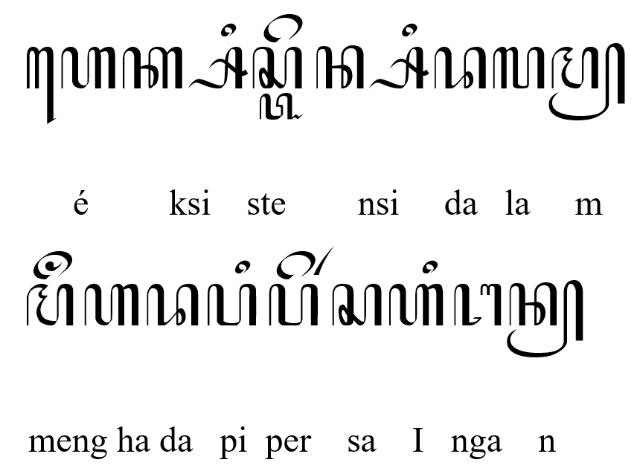-m: (549, 42, 627, 122)
-n: (506, 280, 584, 358)
_r1: (313, 246, 335, 276)
_s: (186, 45, 248, 89), (368, 46, 430, 90)
_t: (258, 93, 304, 121)
d: (146, 282, 198, 328), (434, 46, 486, 90)
e: (261, 12, 303, 44), (276, 251, 316, 281)
e1: (26, 46, 56, 124)
eng: (33, 251, 73, 282)
h: (60, 46, 116, 90), (84, 283, 140, 327), (388, 284, 444, 326)
i: (220, 22, 236, 38), (401, 22, 417, 38), (422, 260, 438, 276), (234, 260, 250, 274)
k: (122, 46, 184, 90)
l: (492, 46, 546, 90)
m: (26, 283, 74, 327)
n: (316, 44, 364, 90)
nga: (454, 284, 502, 326)
p: (207, 282, 257, 328), (268, 284, 318, 328)
s: (252, 46, 304, 90), (332, 283, 382, 327)
